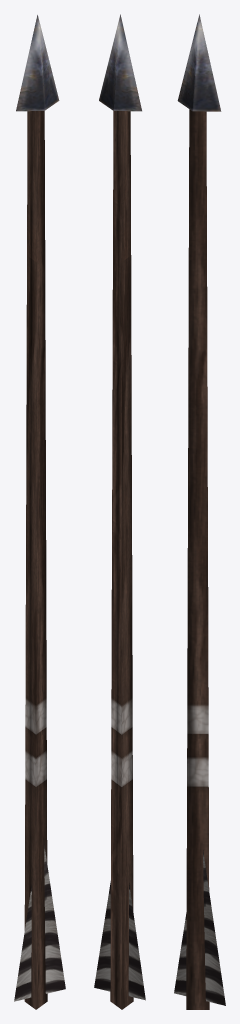
The model's file is arrow.FBX.
The picture shows the model from 3 angles, left to right: view 1: azimuth 30°, elevation 25°; view 2: azimuth 150°, elevation 25°; view 3: azimuth 330°, elevation 25°; orthographic projection.
Parts seen in each view (by area): view 1: goblin_arrow; view 2: goblin_arrow; view 3: goblin_arrow.
Boxes of the visible parts, x1=… form: goblin_arrow: x1=14, y1=15, x2=65, y2=1009; goblin_arrow: x1=94, y1=14, x2=145, y2=1009; goblin_arrow: x1=174, y1=14, x2=225, y2=1009.
Bounding box in the file's own units: 2.99 × 54.65 × 1.37.
